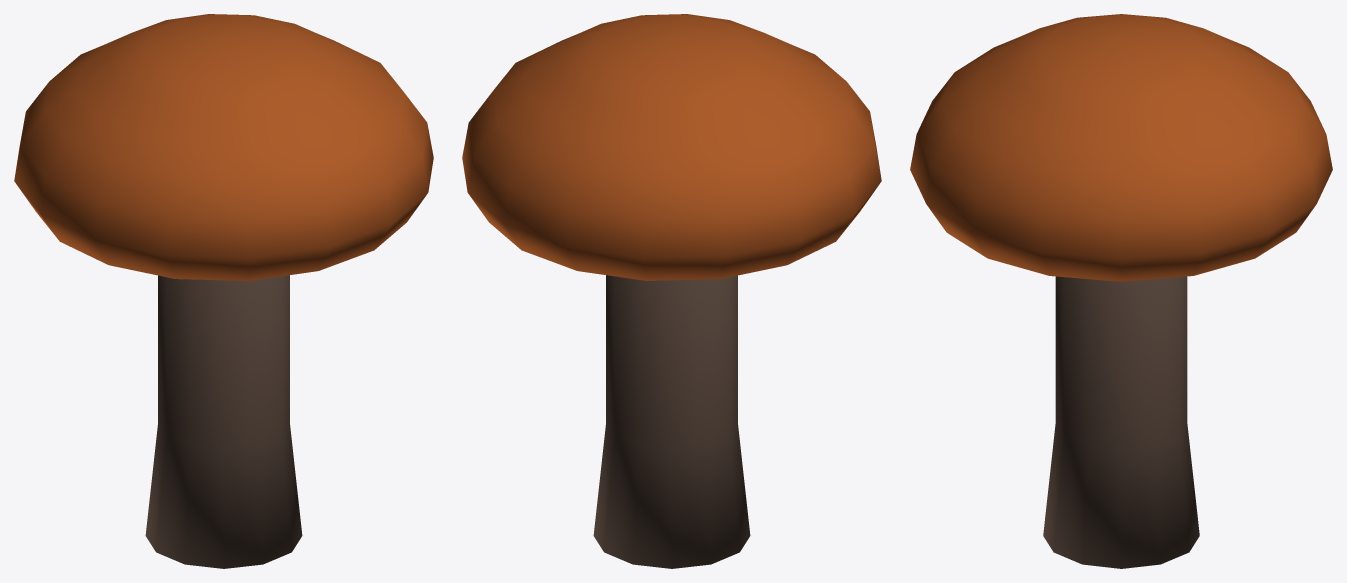
File: Leccinum_big.fbx
The picture shows the model from 3 angles, left to right: view 1: azimuth 30°, elevation 25°; view 2: azimuth 150°, elevation 25°; view 3: azimuth 270°, elevation 25°; orthographic projection.
Visible parts, largest first — view 1: Leccinum_big; view 2: Leccinum_big; view 3: Leccinum_big.
Boxes of the visible parts, left/top/right/bottom form: Leccinum_big: left=14, top=14, right=433, bottom=568; Leccinum_big: left=462, top=14, right=881, bottom=568; Leccinum_big: left=910, top=14, right=1332, bottom=568.
Bounding box in the file's own units: 23.37 × 30.32 × 23.37.
